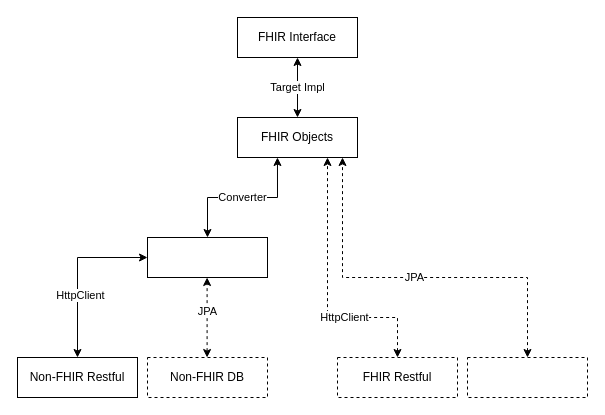
This 605x415 diagram has some shape labels left out. Each missing label, with the centre of its shape:
"Custom Object" goes at [207,257].
"FHIR DB" goes at [527,377].
